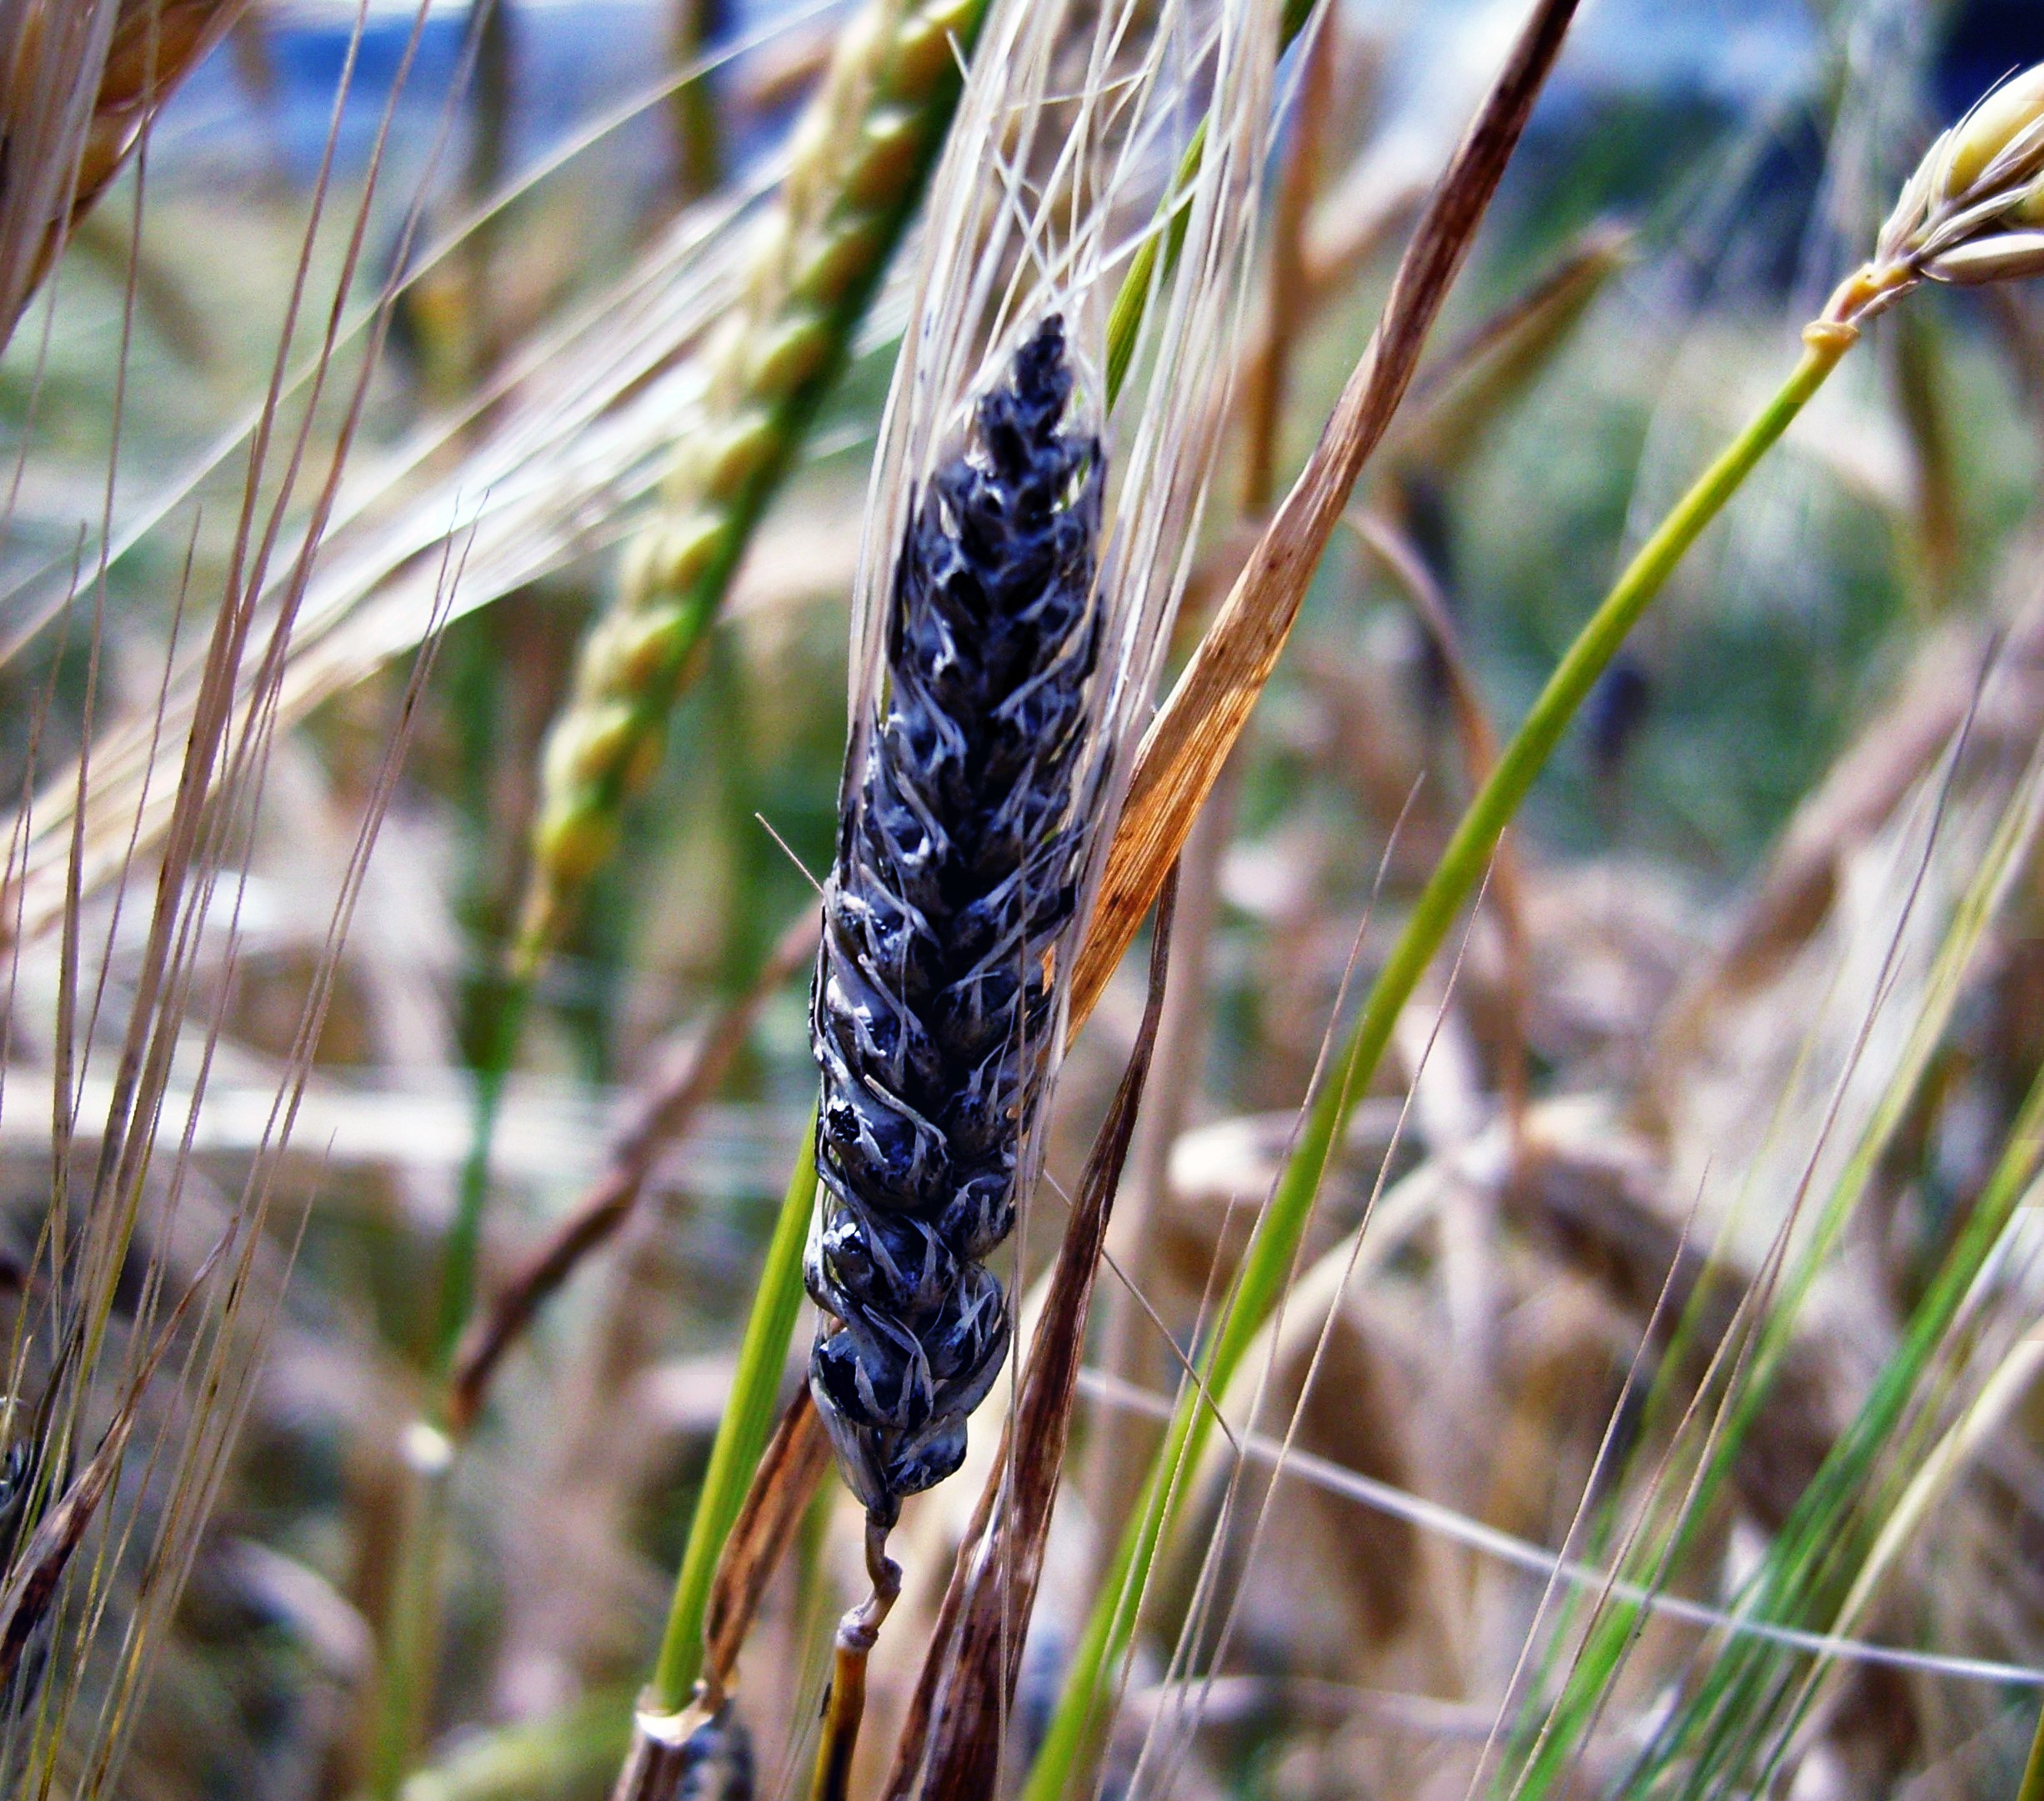Wheat Loose Smut: (756, 362, 1145, 1589)
